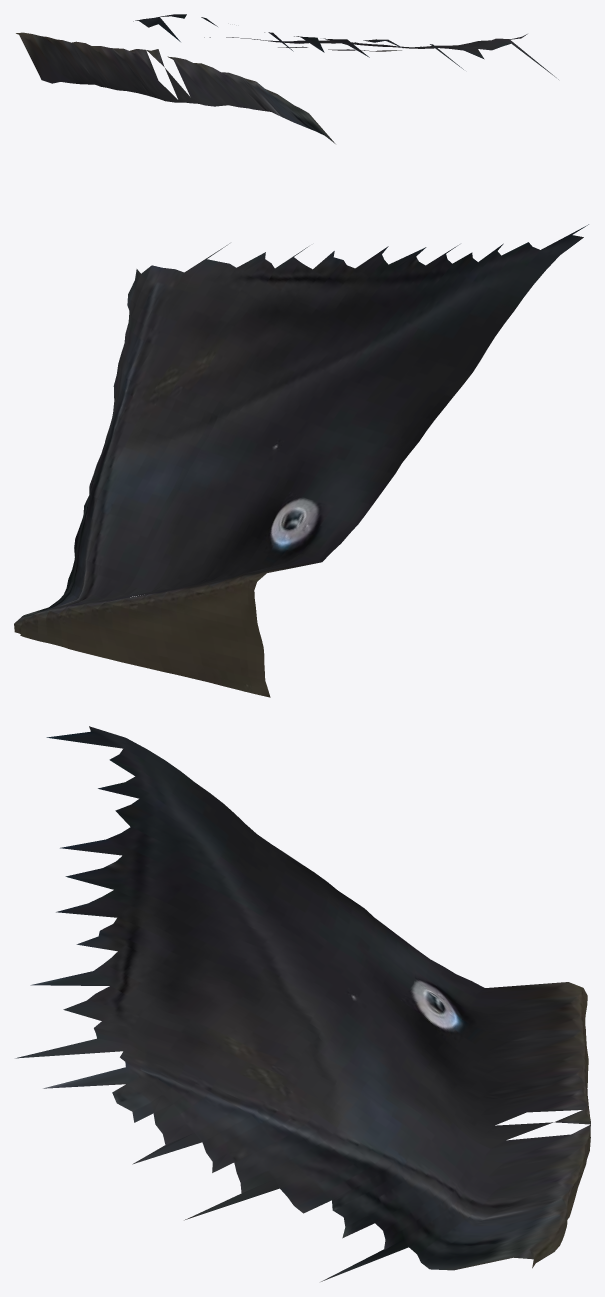
Rendered from observed-surface.glb.
3 renders of one model, top to bottom at view 1: azimuth 30°, elevation 25°; view 2: azimuth 150°, elevation 25°; view 3: azimuth 270°, elevation 25°, orthographic. The views are drawn at different scales.
Parts seen in each view (by area): view 1: geometry_0; view 2: geometry_0; view 3: geometry_0.
Part boxes in pixels (x1,y1,x2,y2): geometry_0: (16,14,558,143); geometry_0: (14,224,588,697); geometry_0: (15,726,590,1281).
Bounding box in the file's own units: 0.5927 × 0.4408 × 0.6349.
Materials: 1 (1 with a texture image).
